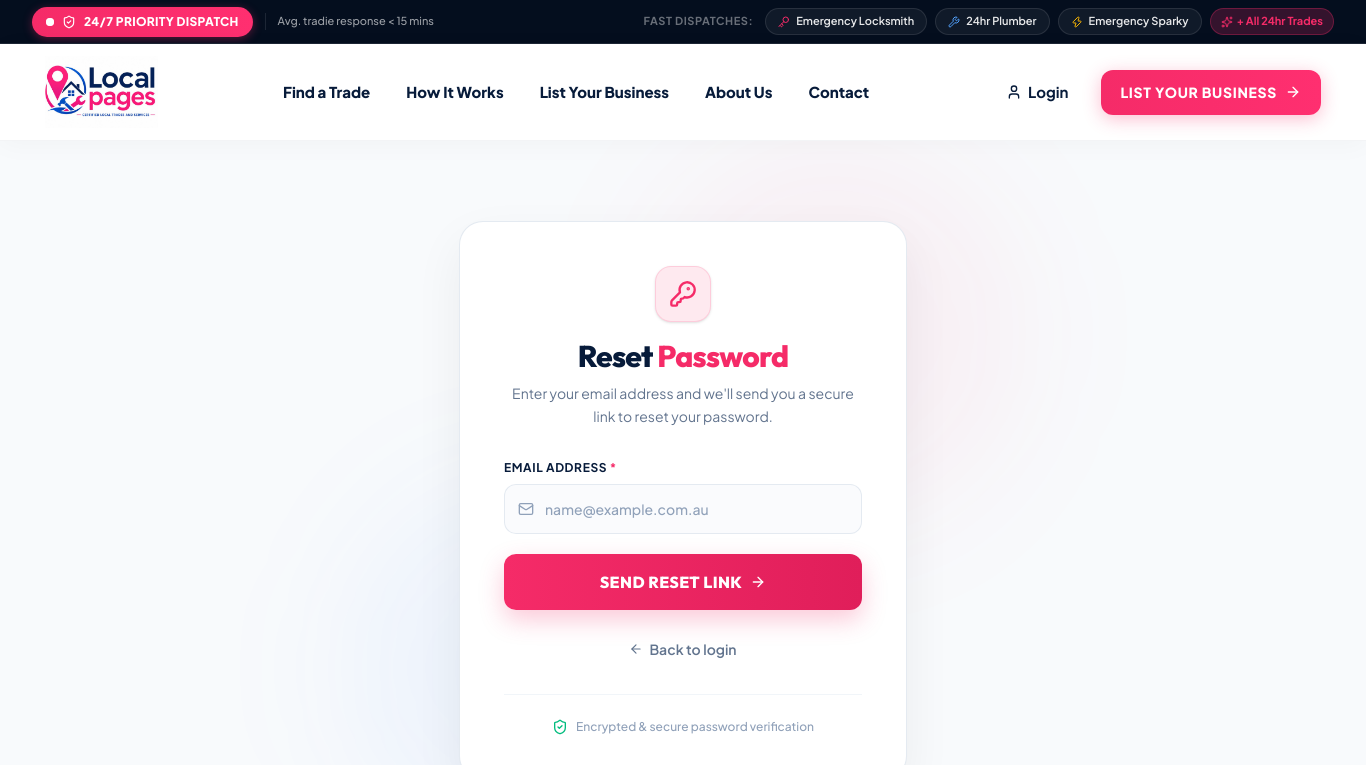
Scenario: Auth Workflows › Password › forgot password success
Type "test@test.com" into the field labelled "Email Address *" at (683, 508), box [504,484,862,534]
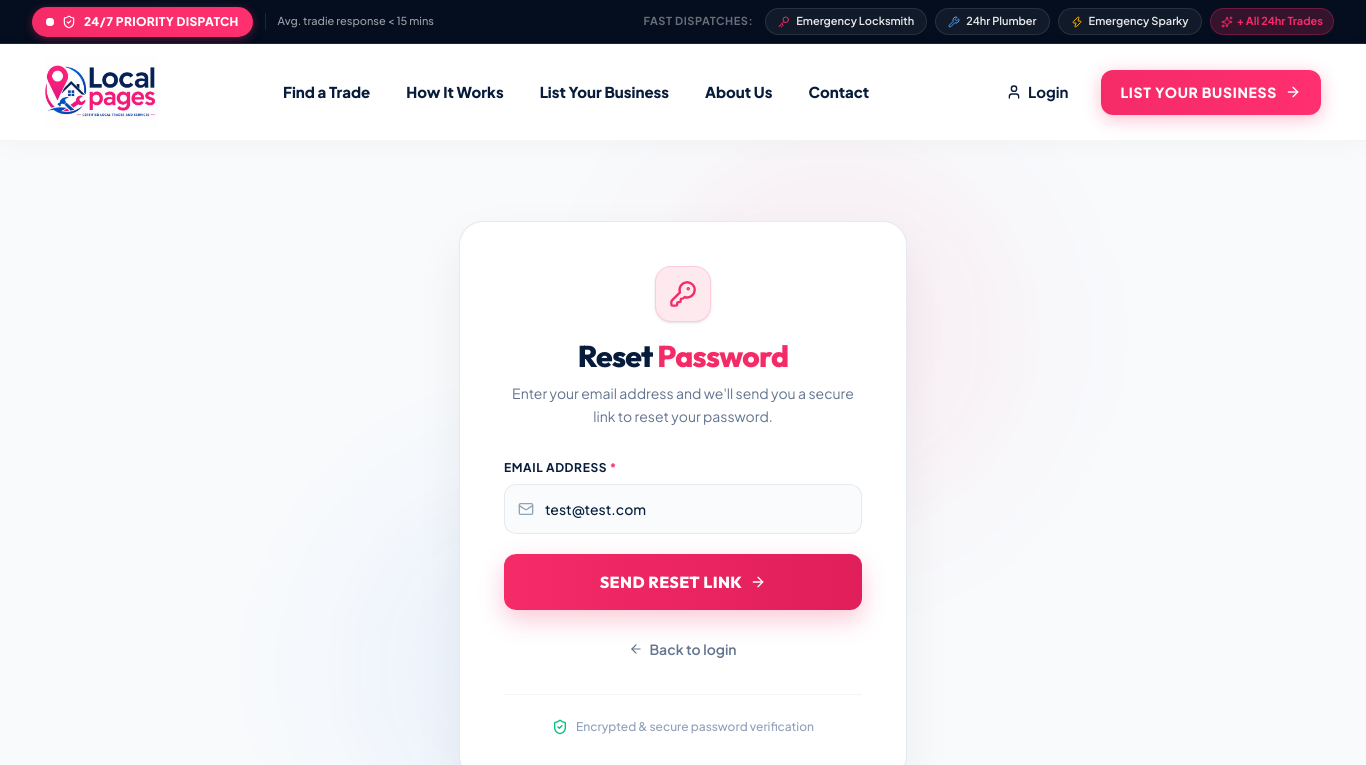
Click the button "SEND RESET LINK" at (683, 582), box [504,554,862,610]
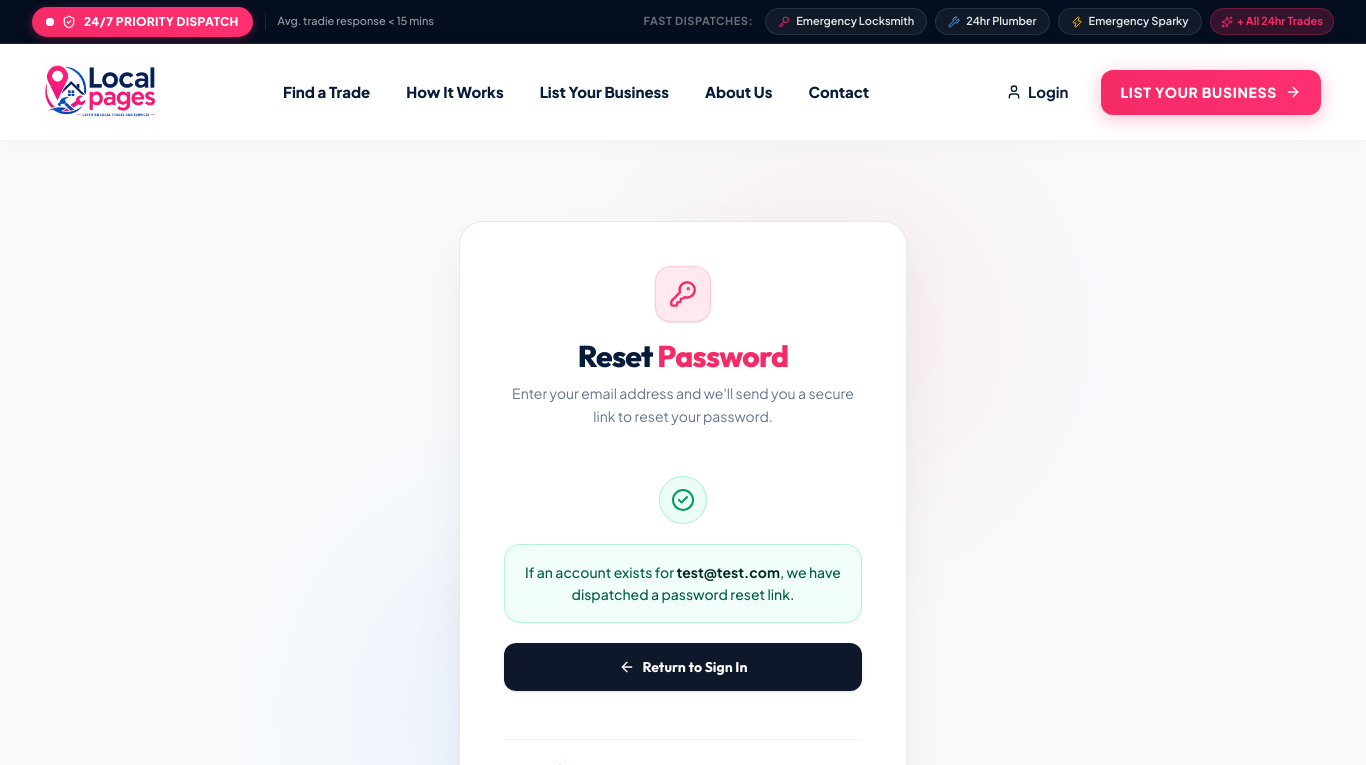
Now the text "If an account exists" is shown, box [525,562,677,580]
